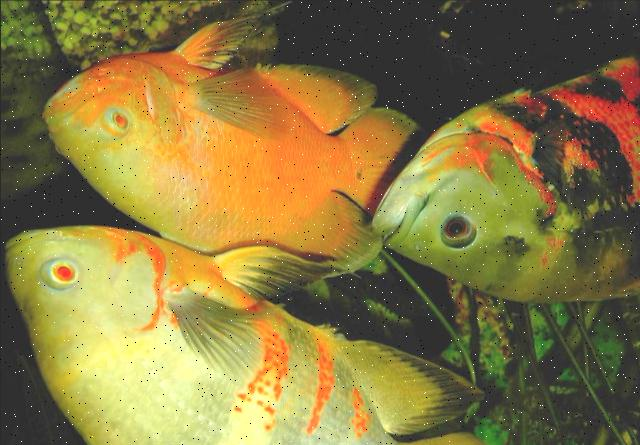Mulut: (30, 46, 104, 162), (364, 178, 436, 274), (2, 213, 54, 289)
Sirip Anal: (330, 329, 490, 443), (250, 56, 384, 144)
Sirip Dada: (163, 286, 269, 396), (190, 58, 292, 151), (526, 114, 590, 212)
Sirip Perut: (215, 233, 342, 309), (171, 1, 285, 77)
